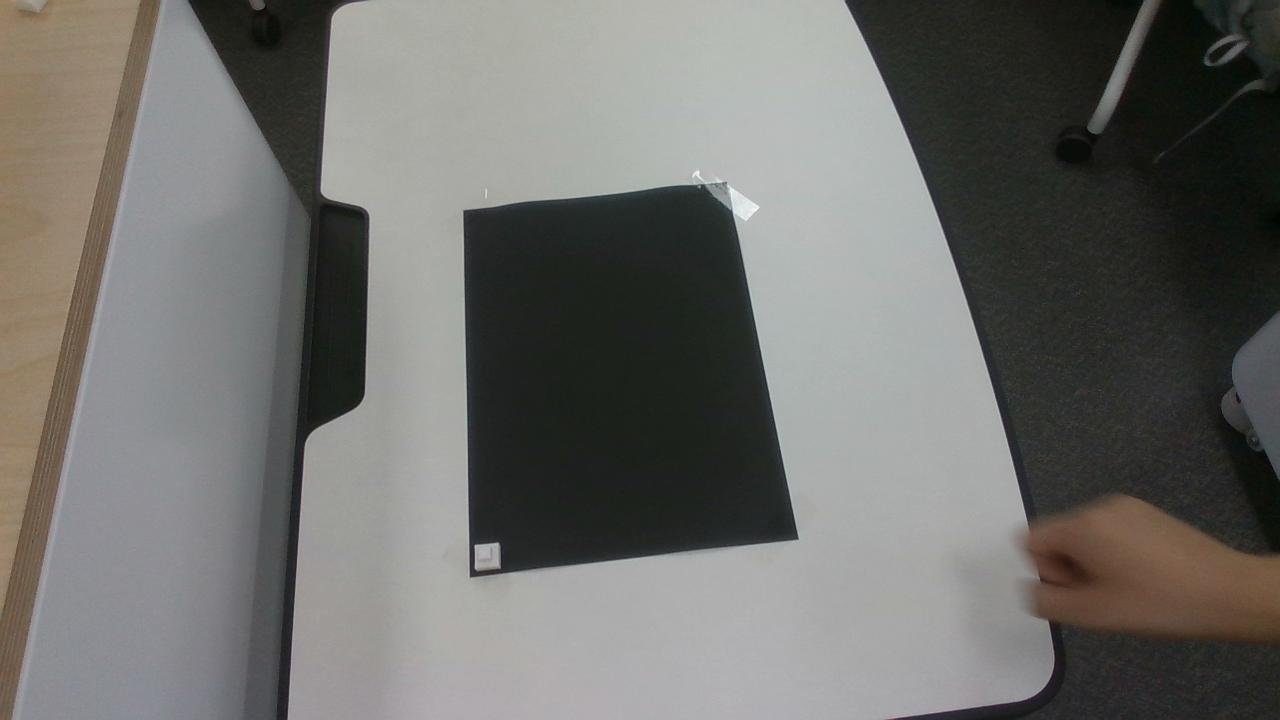cube: (474, 543, 499, 571)
